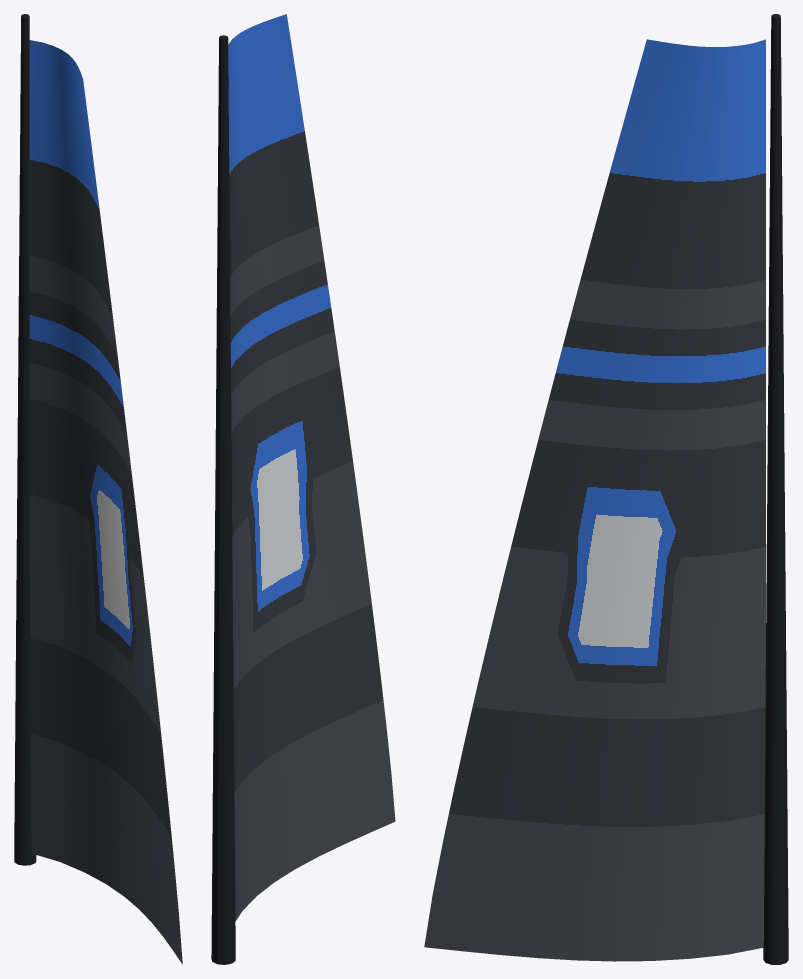
Rendered from rig_2_s.glb.
3 renders of one model, left to right at view 1: azimuth 30°, elevation 25°; view 2: azimuth 150°, elevation 25°; view 3: azimuth 270°, elevation 25°, orthographic. The views are drawn at different scales.
Parts seen in each view (by area): view 1: rig_2_s_body; view 2: rig_2_s_body; view 3: rig_2_s_body.
Part boxes in pixels (bbox=[...]): rig_2_s_body: bbox=[14, 14, 182, 964]; rig_2_s_body: bbox=[211, 14, 395, 964]; rig_2_s_body: bbox=[424, 14, 788, 964].
Size of the model in its own units: 1.15 by 26.2 by 9.17.
Materials: 1 (1 with a texture image).
